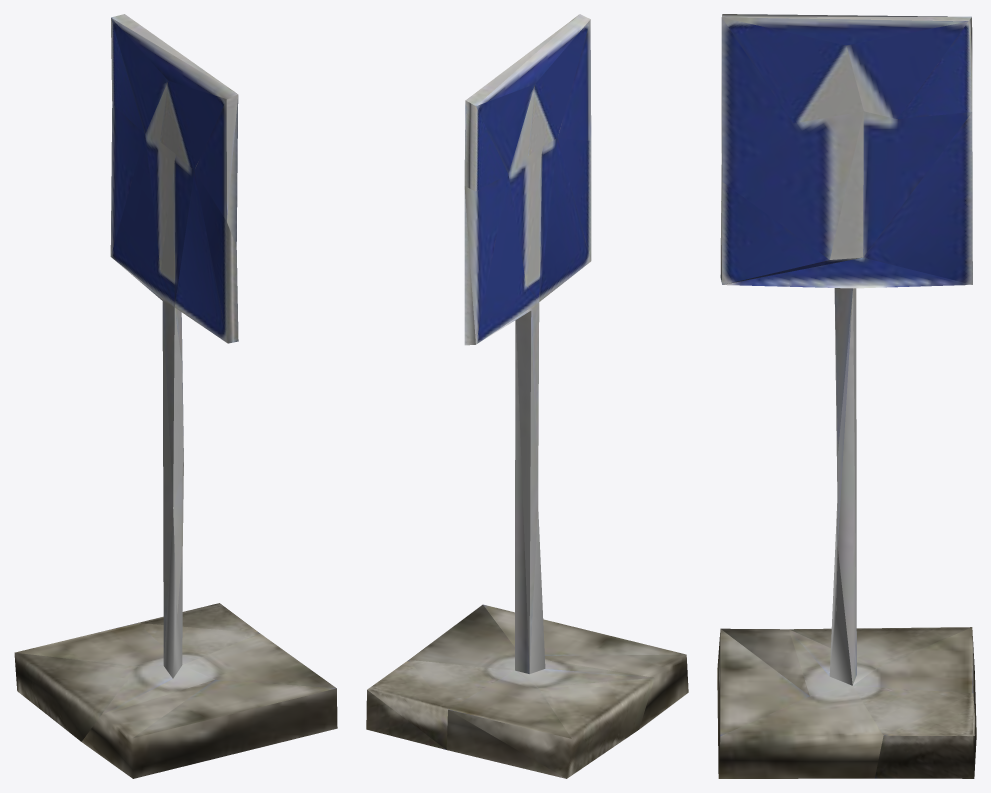
The model's file is rambu_lurus_lod2.glb.
The picture shows the model from 3 angles, left to right: view 1: azimuth 30°, elevation 25°; view 2: azimuth 150°, elevation 25°; view 3: azimuth 270°, elevation 25°; orthographic projection. The views are drawn at different scales.
Visible parts, largest first — view 1: tripo_node_c8df17a8; view 2: tripo_node_c8df17a8; view 3: tripo_node_c8df17a8.
Boxes of the visible parts, x1,y1,x2,y2 form: tripo_node_c8df17a8: [14, 14, 337, 778]; tripo_node_c8df17a8: [366, 14, 688, 778]; tripo_node_c8df17a8: [717, 14, 976, 778].
Size of the model in its own units: 33 by 99.94 by 33.09.
1 material, 1 textured.
